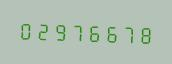eight: (136, 21, 152, 46)
nine: (51, 18, 67, 43)
seven: (68, 19, 84, 43), (119, 21, 135, 45)
six: (85, 19, 101, 44), (102, 20, 118, 45)
two: (34, 18, 50, 42)
zero: (17, 17, 33, 42)
